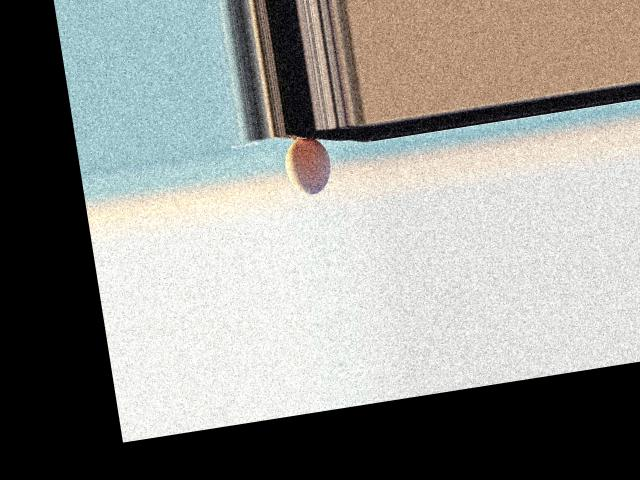egg: (281, 134, 334, 198)
